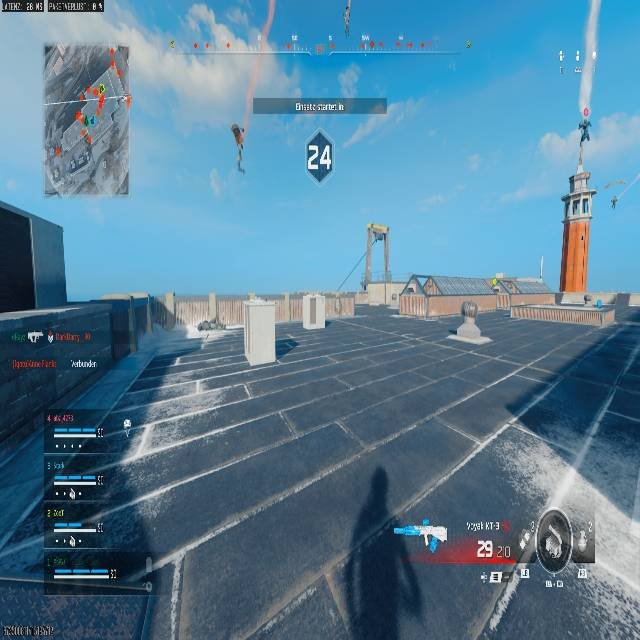player: (453, 303, 486, 340)
